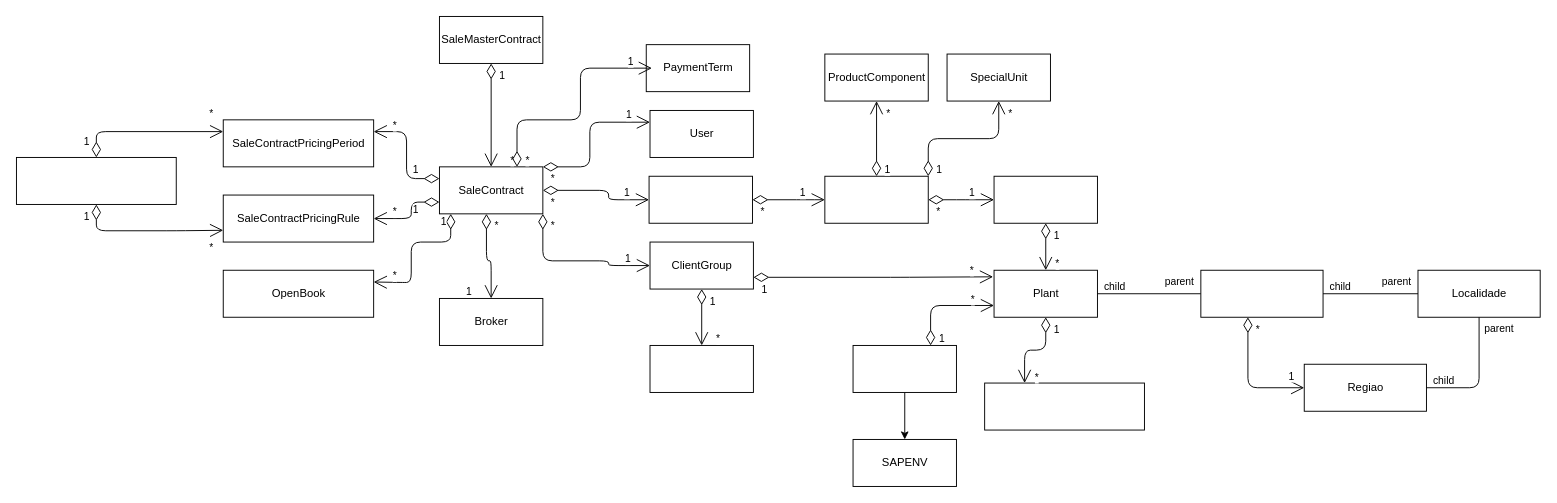
This 1557x503 diagram has some shape labels left out. The shapes that lost their labels are listed below. From the top down, each one's centre as x and y in pixels, then its label:
[96,180]: MapPricingRule_PricingPeriod
[700,199]: ProductGroup
[876,199]: Product
[1045,199]: ProductInPlant
[1261,293]: LocalidadeGeografica
[701,368]: Client
[904,368]: Company
[1064,406]: RestricaoCargaDescarga
